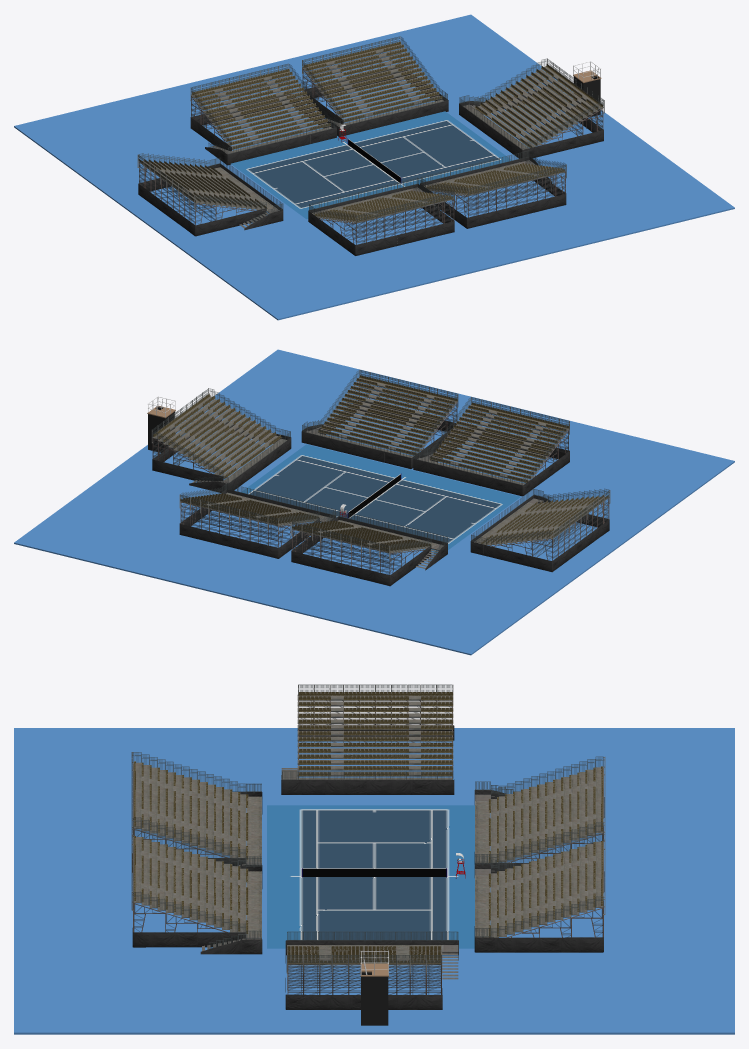
The model's file is court-right.glb.
3 renders of one model, top to bottom at view 1: azimuth 30°, elevation 25°; view 2: azimuth 150°, elevation 25°; view 3: azimuth 270°, elevation 25°, orthographic. The views are drawn at different scales.
Visible parts, largest first — view 1: Plane.001, Plane, Node_013_mel_grandstand_genericmedium_a_physics_!bk, Node_013_mel_grandstand_genericmedium_a_physics_!bk.001, Node_013_mel_grandstand_genericmedium_a_physics_!bk.002, Node_013_mel_grandstand_genericmedium_a_physics_!bk.005, Node_013_mel_grandstand_genericmedium_a_physics_!bk.003, Node_013_mel_grandstand_genericmedium_a_physics_!bk.004; view 2: Plane.001, Plane, Node_013_mel_grandstand_genericmedium_a_physics_!bk.003, Node_013_mel_grandstand_genericmedium_a_physics_!bk.004, Node_013_mel_grandstand_genericmedium_a_physics_!bk.002, Node_013_mel_grandstand_genericmedium_a_physics_!bk, Node_013_mel_grandstand_genericmedium_a_physics_!bk.005, Node_013_mel_grandstand_genericmedium_a_physics_!bk.001; view 3: Plane.001, Plane, Node_013_mel_grandstand_genericmedium_a_physics_!bk.005, Node_013_mel_grandstand_genericmedium_a_physics_!bk.004, Node_013_mel_grandstand_genericmedium_a_physics_!bk.001, Node_013_mel_grandstand_genericmedium_a_physics_!bk.002, Node_013_mel_grandstand_genericmedium_a_physics_!bk.003, Node_013_mel_grandstand_genericmedium_a_physics_!bk, Tower_Base_Wall_3, Tennis_Net_Strings.
Part boxes in pixels (bbox=[...]): Plane.001: bbox=[14, 14, 734, 320]; Plane: bbox=[231, 111, 511, 219]; Node_013_mel_grandstand_genericmedium_a_physics_!bk: bbox=[190, 63, 336, 165]; Node_013_mel_grandstand_genericmedium_a_physics_!bk.001: bbox=[302, 36, 448, 136]; Node_013_mel_grandstand_genericmedium_a_physics_!bk.002: bbox=[459, 58, 604, 158]; Node_013_mel_grandstand_genericmedium_a_physics_!bk.005: bbox=[137, 153, 283, 236]; Node_013_mel_grandstand_genericmedium_a_physics_!bk.003: bbox=[308, 177, 454, 255]; Node_013_mel_grandstand_genericmedium_a_physics_!bk.004: bbox=[420, 150, 566, 228]; Plane.001: bbox=[14, 349, 734, 655]; Plane: bbox=[241, 444, 520, 552]; Node_013_mel_grandstand_genericmedium_a_physics_!bk.003: bbox=[413, 397, 569, 496]; Node_013_mel_grandstand_genericmedium_a_physics_!bk.004: bbox=[301, 370, 458, 468]; Node_013_mel_grandstand_genericmedium_a_physics_!bk.002: bbox=[151, 388, 291, 492]; Node_013_mel_grandstand_genericmedium_a_physics_!bk: bbox=[291, 510, 447, 586]; Node_013_mel_grandstand_genericmedium_a_physics_!bk.005: bbox=[470, 488, 610, 572]; Node_013_mel_grandstand_genericmedium_a_physics_!bk.001: bbox=[179, 483, 335, 558]; Plane.001: bbox=[14, 728, 734, 1034]; Plane: bbox=[267, 805, 474, 948]; Node_013_mel_grandstand_genericmedium_a_physics_!bk.005: bbox=[281, 684, 454, 794]; Node_013_mel_grandstand_genericmedium_a_physics_!bk.004: bbox=[131, 826, 262, 954]; Node_013_mel_grandstand_genericmedium_a_physics_!bk.001: bbox=[474, 831, 605, 952]; Node_013_mel_grandstand_genericmedium_a_physics_!bk.002: bbox=[285, 931, 458, 1009]; Node_013_mel_grandstand_genericmedium_a_physics_!bk.003: bbox=[131, 752, 262, 872]; Node_013_mel_grandstand_genericmedium_a_physics_!bk: bbox=[474, 756, 605, 868]; Tower_Base_Wall_3: bbox=[361, 976, 388, 1025]; Tennis_Net_Strings: bbox=[302, 869, 446, 876].
Bounding box in the file's own units: 98.56 × 10.1 × 98.56.
Materials: 30 (19 with a texture image).
